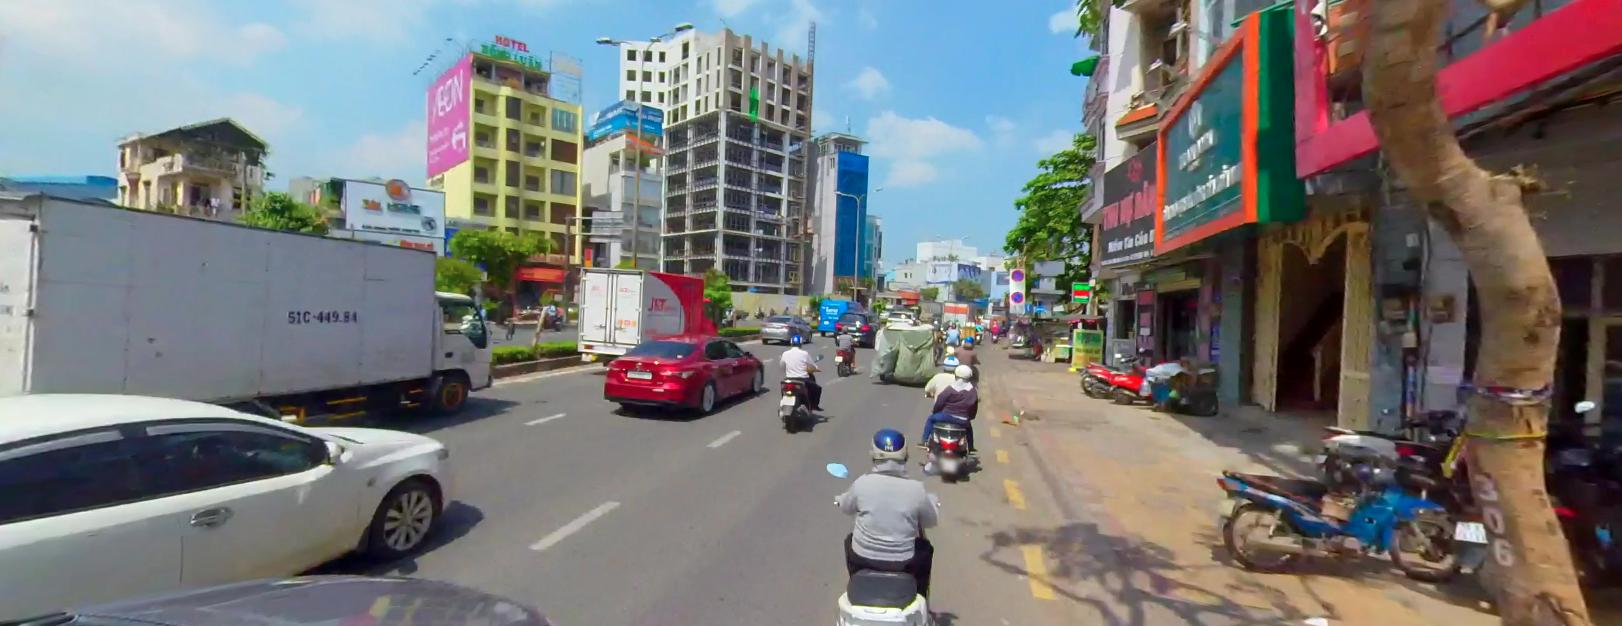Cam dung va do: (1010, 267, 1024, 280), (1011, 290, 1024, 301)
